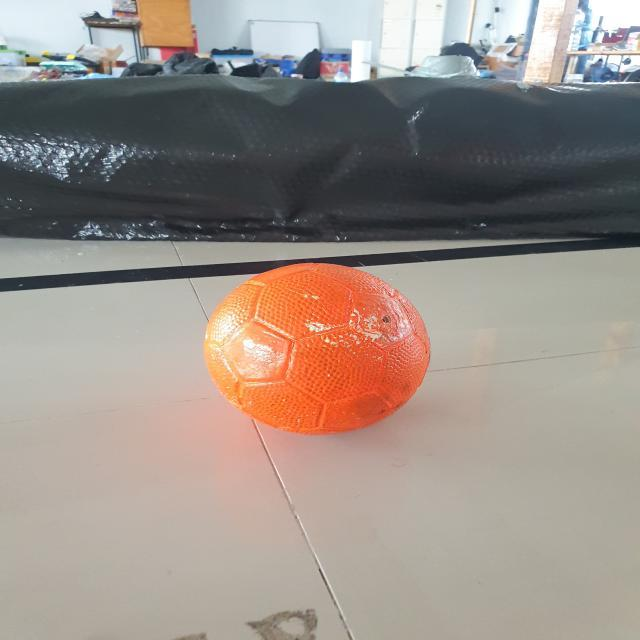bola: (196, 252, 446, 446)
